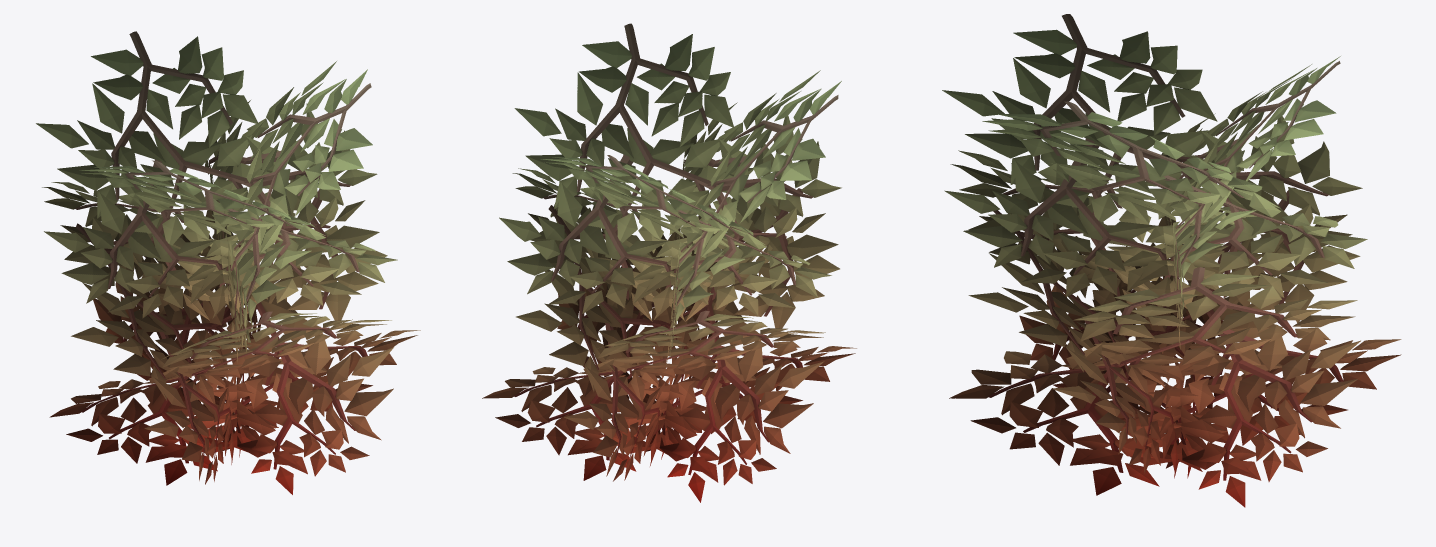
The model's file is source.gltf.
The picture shows the model from 3 angles, left to right: view 1: azimuth 30°, elevation 25°; view 2: azimuth 150°, elevation 25°; view 3: azimuth 270°, elevation 25°; orthographic projection. The views are drawn at different scales.
Parts seen in each view (by area): view 1: SM_Plant_Bush_Leaves_02; view 2: SM_Plant_Bush_Leaves_02; view 3: SM_Plant_Bush_Leaves_02.
Part boxes in pixels (x1,y1,x2,y2): SM_Plant_Bush_Leaves_02: (36, 31, 420, 494); SM_Plant_Bush_Leaves_02: (482, 23, 856, 502); SM_Plant_Bush_Leaves_02: (942, 14, 1401, 507).
Bounding box in the file's own units: 0.5343 × 0.6049 × 0.6123.
1 material, 1 textured.
